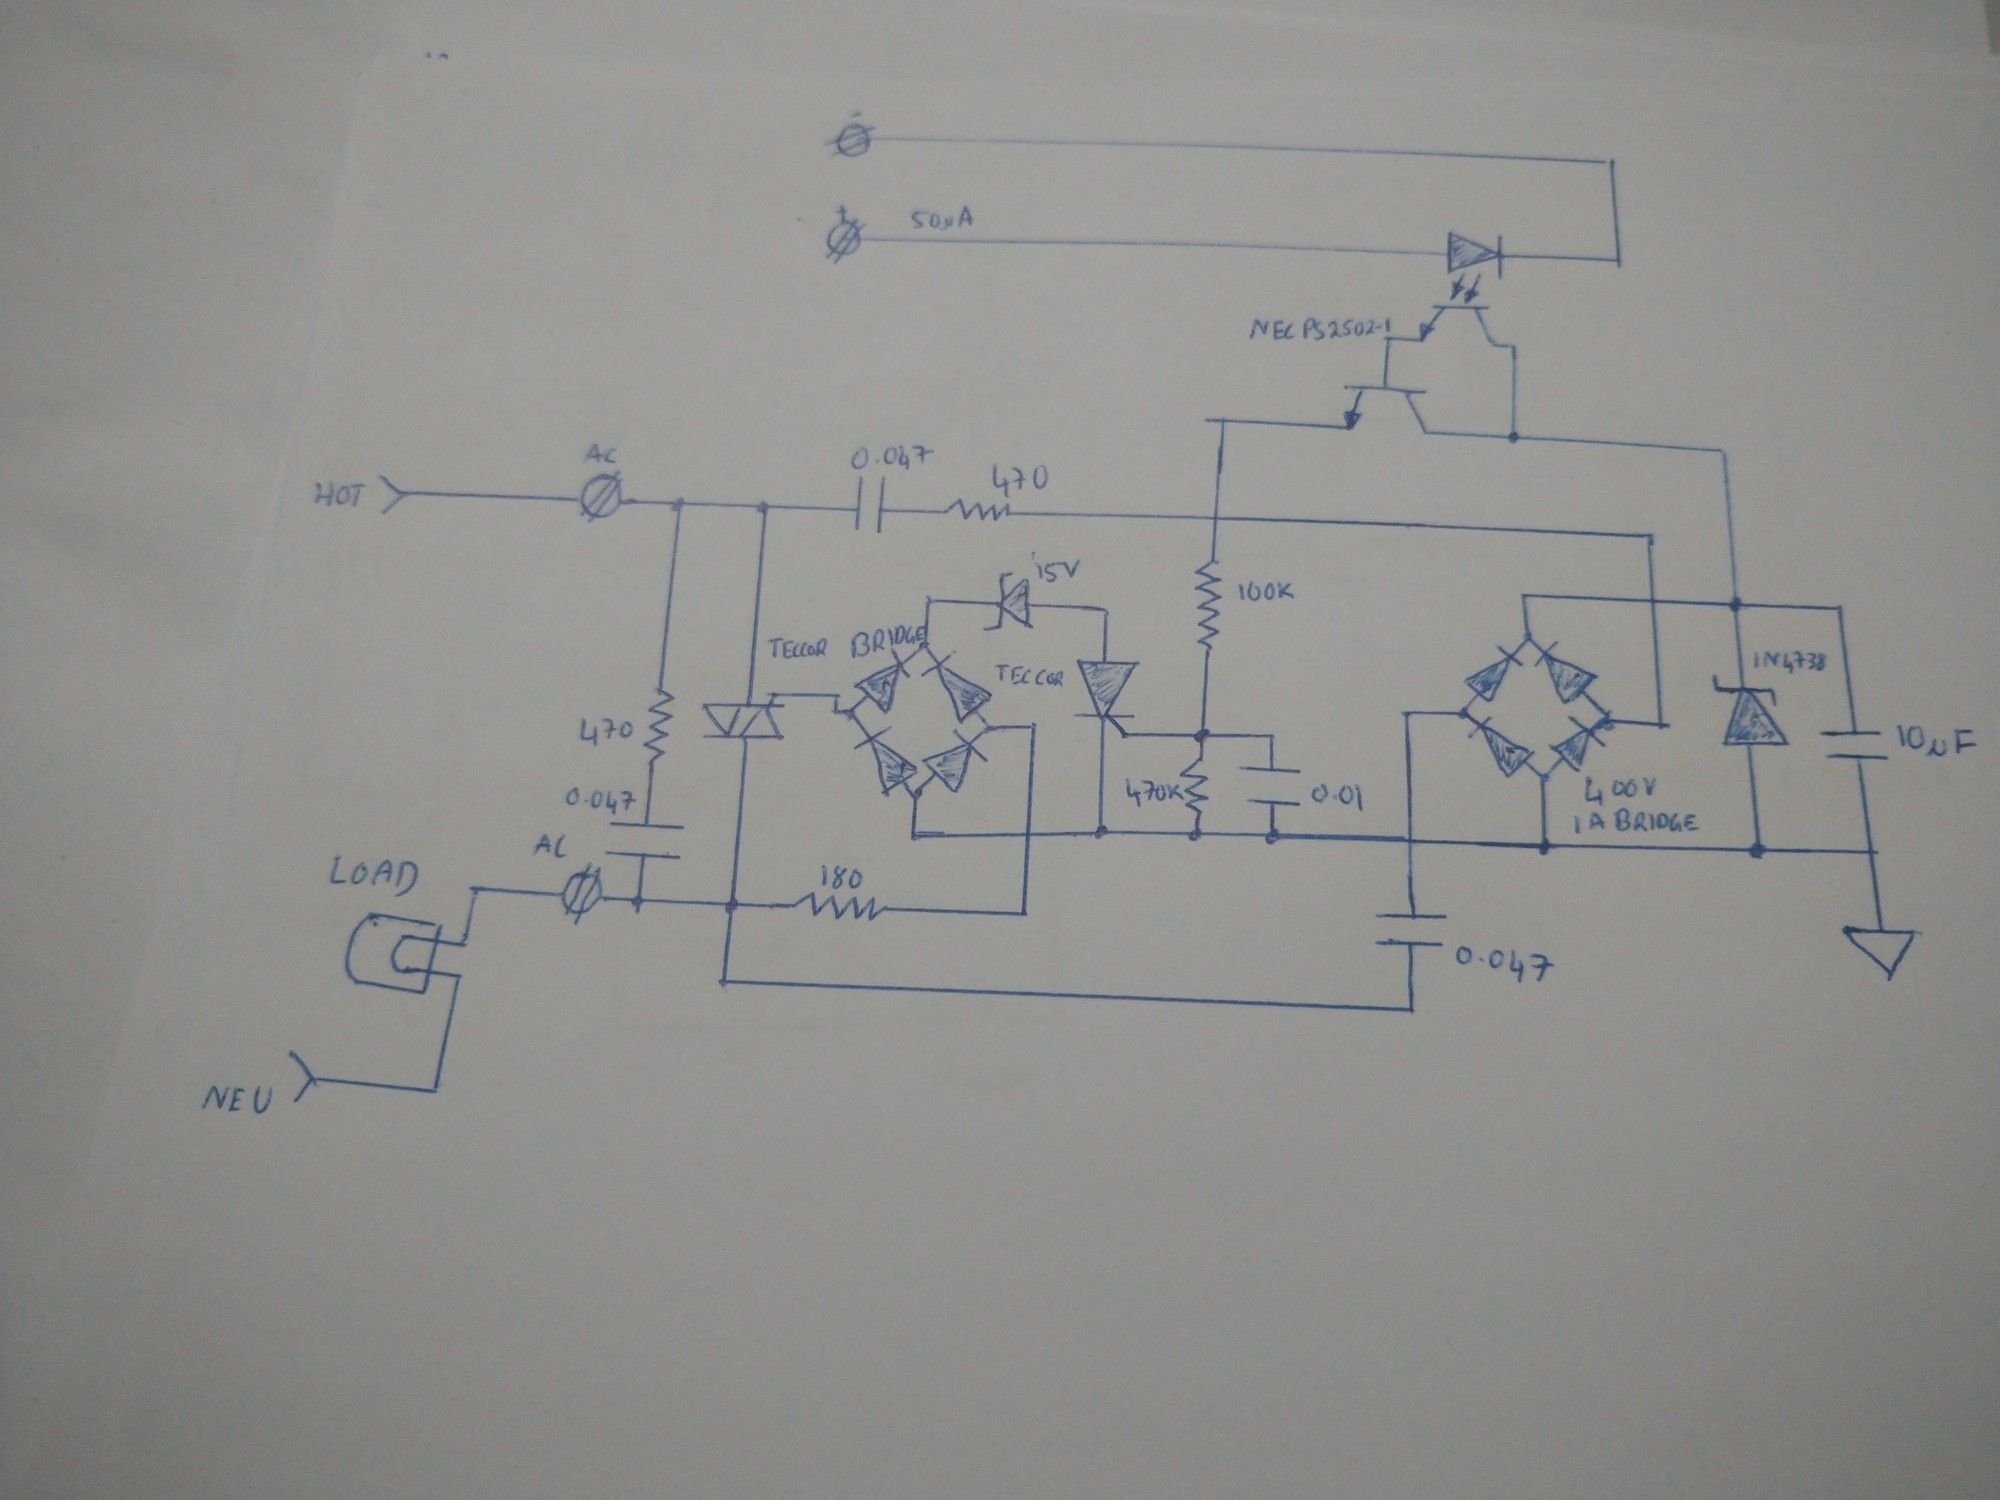capacitor.unpolarized: (605, 818, 683, 871), (1375, 906, 1447, 960), (1239, 759, 1302, 815), (1820, 723, 1890, 770), (843, 476, 894, 534)
crossover: (1403, 834, 1420, 849), (1020, 827, 1036, 841), (1646, 594, 1661, 608), (1208, 511, 1222, 526)
diode: (1712, 674, 1789, 745), (921, 652, 992, 723), (854, 726, 918, 796), (923, 730, 987, 793), (1469, 717, 1534, 780), (1534, 641, 1595, 704), (857, 651, 910, 714), (1465, 648, 1523, 703), (983, 572, 1035, 633), (1550, 717, 1605, 774)
gnd: (1843, 925, 1918, 980)
junction: (1746, 840, 1770, 860), (1597, 711, 1617, 734), (1535, 837, 1554, 857), (1265, 826, 1282, 848), (723, 897, 742, 915), (1192, 728, 1213, 745), (1093, 822, 1110, 843), (1187, 826, 1205, 845), (669, 495, 687, 514), (1728, 596, 1745, 614), (1602, 153, 1619, 170), (1654, 717, 1672, 733), (754, 498, 773, 514), (631, 893, 647, 912), (917, 641, 935, 657), (1398, 707, 1416, 723), (1457, 706, 1472, 723), (1016, 904, 1031, 922), (1506, 429, 1523, 444), (1865, 845, 1880, 860), (1535, 770, 1551, 785), (1521, 630, 1535, 646), (1098, 603, 1113, 618), (1643, 529, 1657, 545), (468, 882, 483, 897), (428, 1082, 443, 1098), (1216, 414, 1231, 429), (1611, 254, 1627, 268), (909, 786, 924, 800), (907, 827, 920, 845), (846, 704, 858, 722), (923, 592, 935, 610), (1518, 589, 1532, 603), (1027, 718, 1039, 734), (1717, 444, 1732, 457), (717, 977, 731, 989), (1833, 602, 1847, 614), (1507, 340, 1521, 353), (831, 689, 846, 701), (983, 722, 995, 736), (1266, 730, 1279, 742), (1405, 1004, 1417, 1016), (457, 936, 469, 949), (454, 967, 465, 982), (831, 704, 841, 718), (1383, 334, 1394, 345)
lamp: (343, 912, 443, 994)
optocoupler: (1417, 232, 1506, 348)
resistor: (1194, 558, 1224, 651), (794, 892, 887, 922), (643, 689, 676, 763), (1180, 755, 1209, 815), (945, 498, 1013, 523)
terminal: (824, 217, 868, 265), (825, 121, 876, 161), (288, 1049, 320, 1103), (376, 474, 405, 515)
text: (1454, 945, 1554, 986), (1570, 807, 1701, 837), (331, 854, 419, 898), (1247, 317, 1391, 342), (1896, 722, 1978, 759), (849, 624, 924, 659), (849, 443, 934, 471), (200, 1084, 276, 1116), (564, 785, 638, 816), (1583, 775, 1657, 807), (991, 462, 1049, 496), (1753, 649, 1828, 674), (994, 663, 1065, 690), (1123, 777, 1183, 808), (910, 203, 973, 233), (578, 715, 635, 747), (767, 635, 828, 662), (1310, 782, 1364, 811), (313, 481, 365, 509), (1236, 580, 1294, 603), (819, 860, 865, 890), (1035, 559, 1080, 585), (531, 832, 569, 860), (581, 443, 617, 465)
thyristor: (1071, 659, 1142, 741)
transistor: (1342, 383, 1430, 436)
triac: (699, 689, 787, 742)
